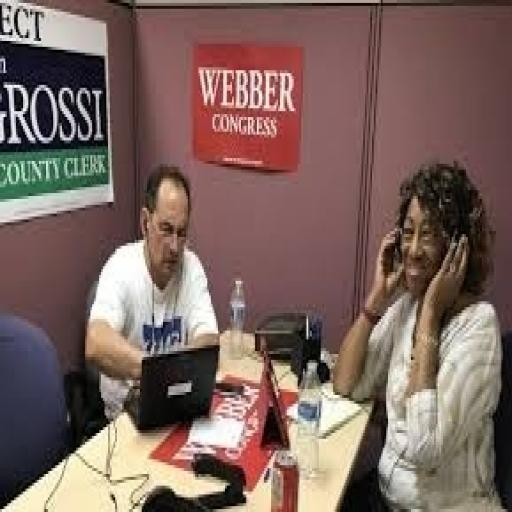calling: (331, 158, 505, 509)
